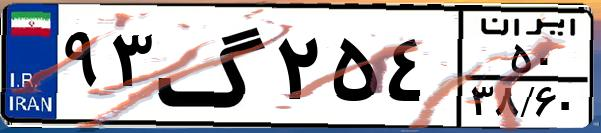0: (560, 70, 590, 125), (537, 27, 568, 80)
2: (270, 28, 330, 110)
3: (110, 28, 156, 98), (470, 70, 495, 125)
4: (385, 28, 445, 110)
5: (330, 28, 385, 110), (508, 27, 537, 80)
6: (535, 70, 560, 125)
8: (495, 70, 520, 125)
9: (57, 26, 110, 100)
گ: (156, 12, 270, 120)
